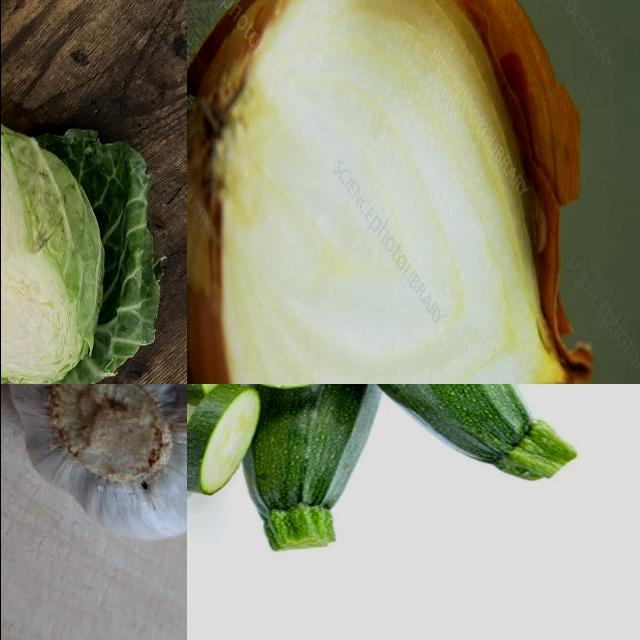cabbage: (1, 106, 162, 385)
garlic: (1, 385, 187, 546)
onion: (187, 1, 589, 385)
zucchini: (231, 385, 584, 521), (219, 385, 423, 563)
